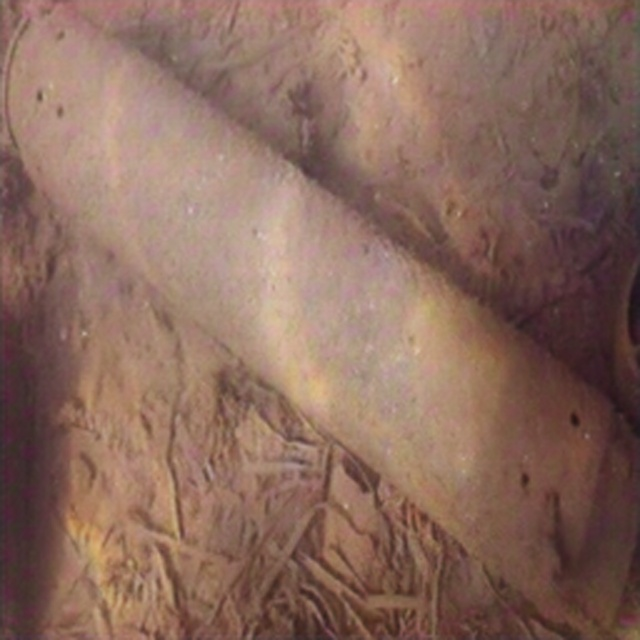mine: (2, 6, 640, 639)
